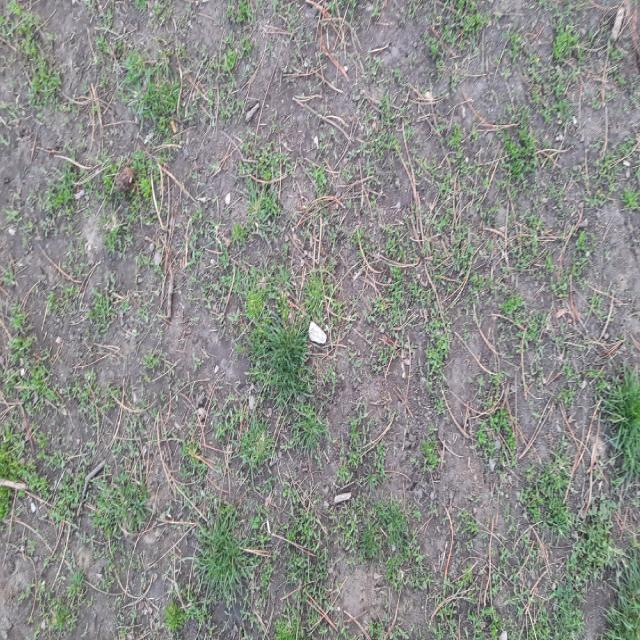grass: (520, 369, 639, 639), (195, 505, 255, 606), (248, 308, 311, 401)
white-sand: (0, 0, 639, 637)
